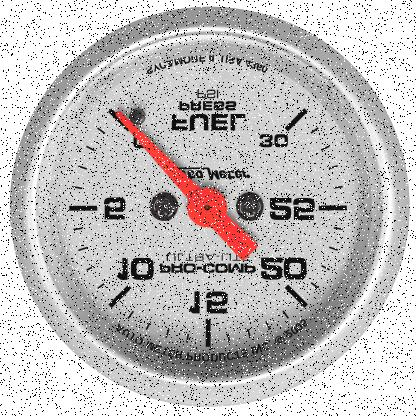needle: (113, 109, 200, 200)
